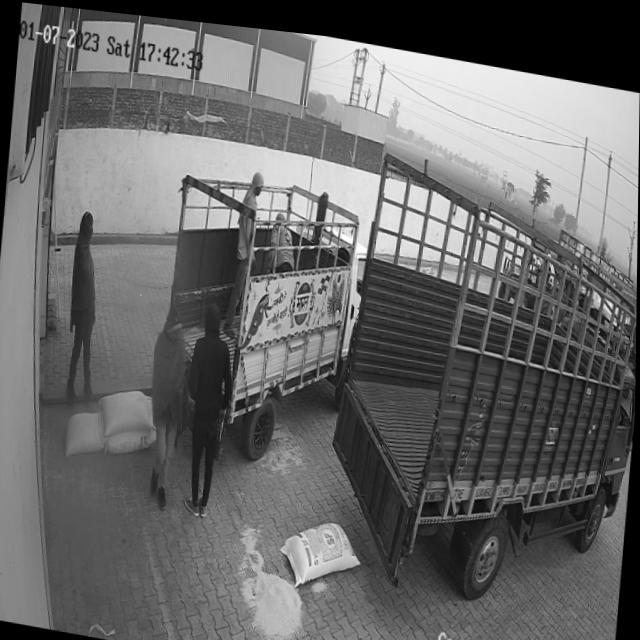sack: (278, 506, 363, 588), (99, 381, 156, 439), (63, 402, 108, 461), (106, 417, 158, 458)
